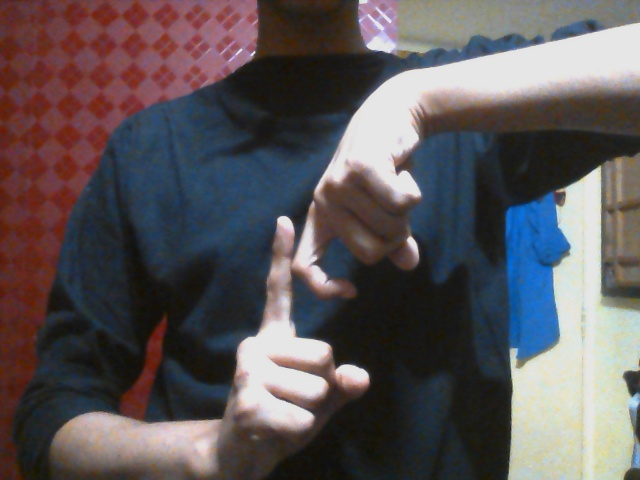K: (227, 162, 418, 449)
